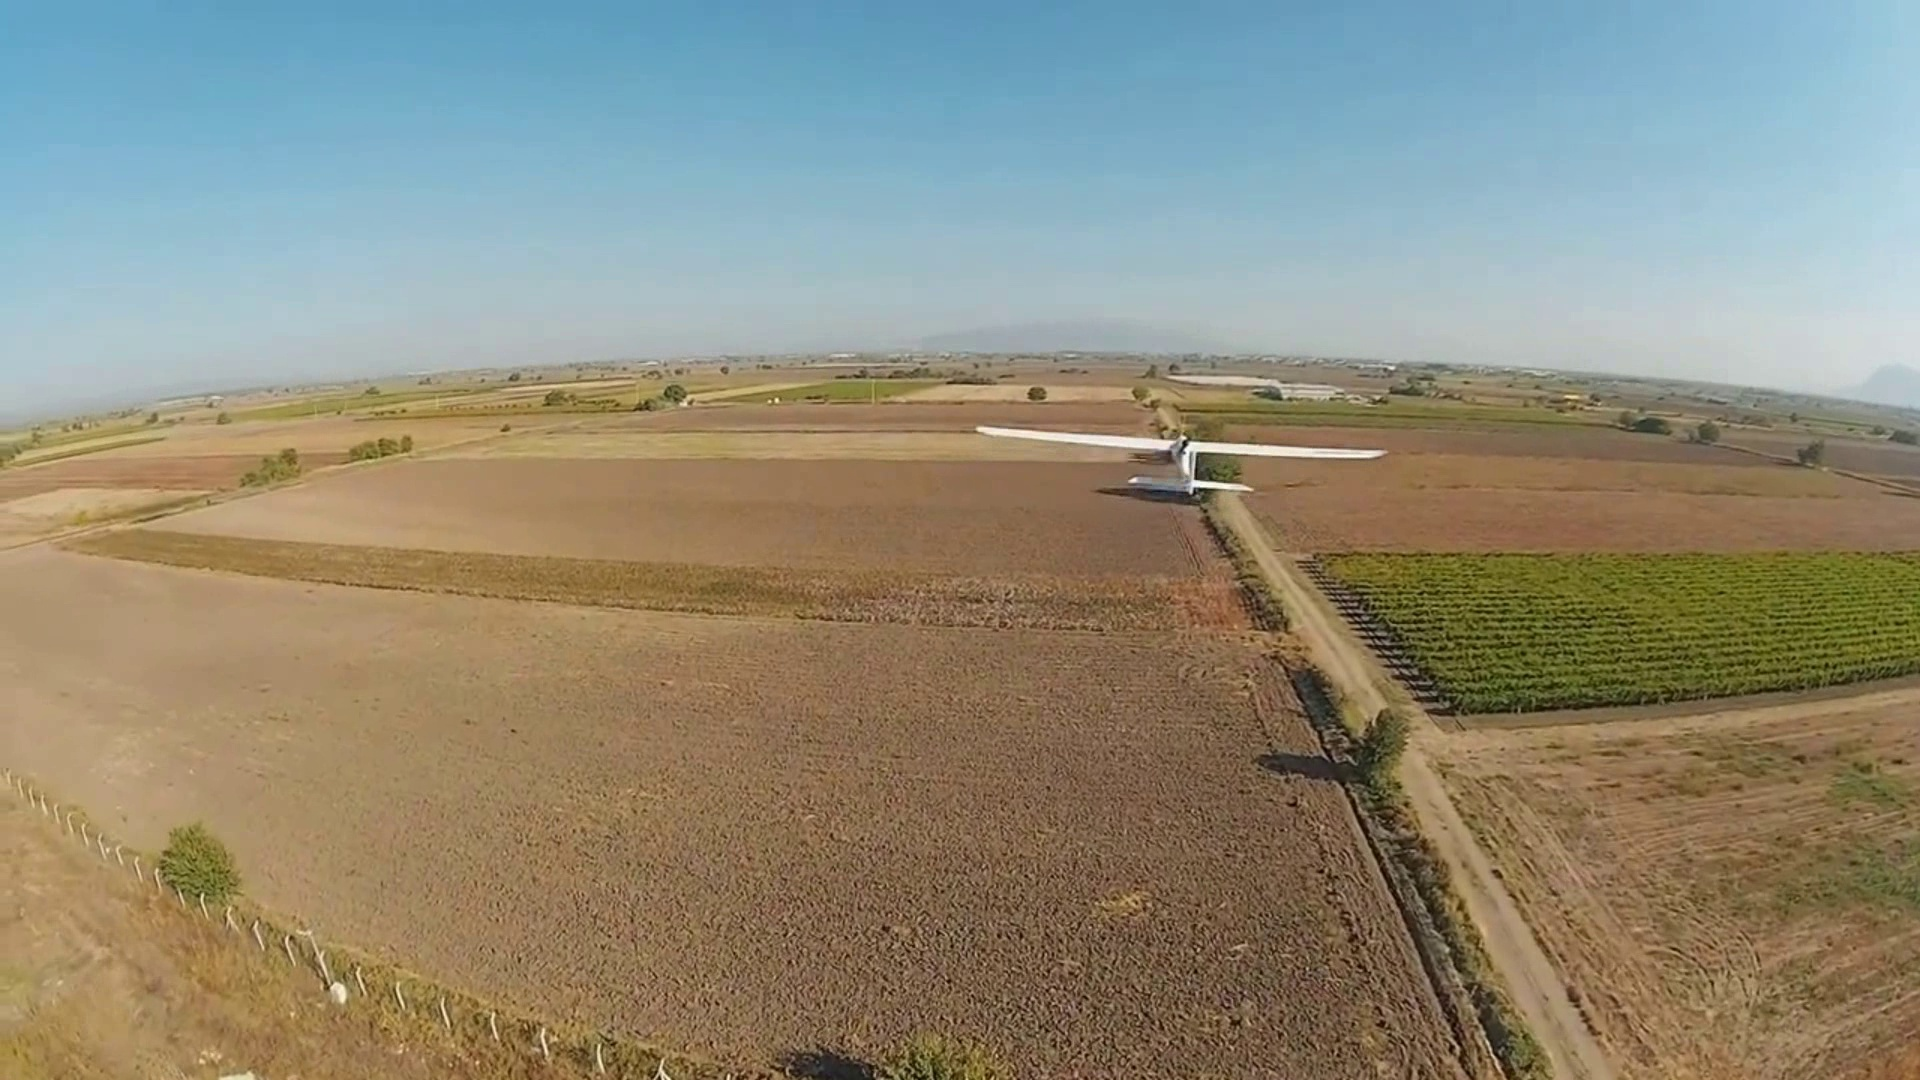airplane: (969, 380, 1389, 508)
